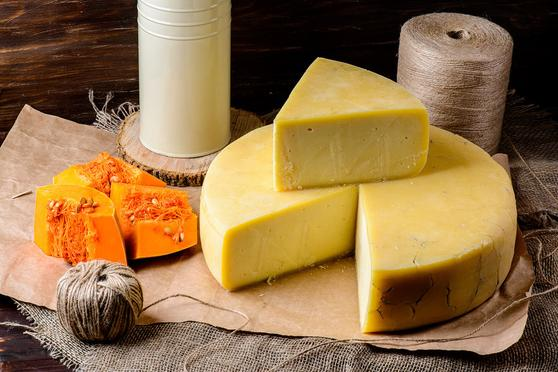cheese: (278, 54, 432, 185)
